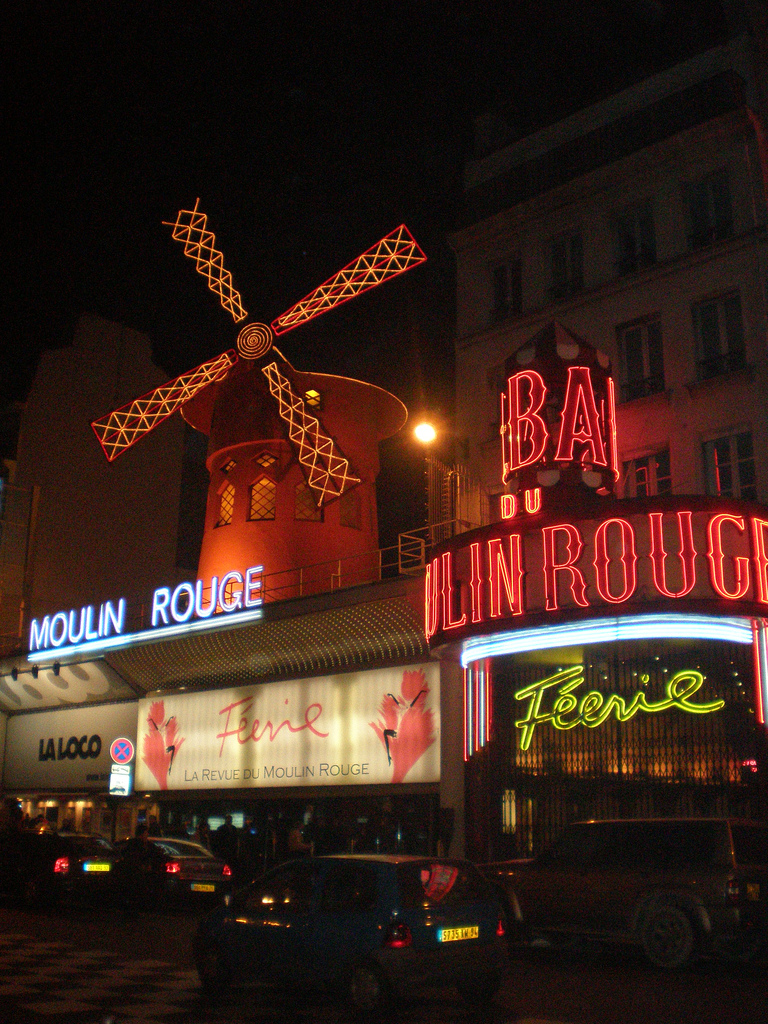car: (9, 826, 125, 905)
